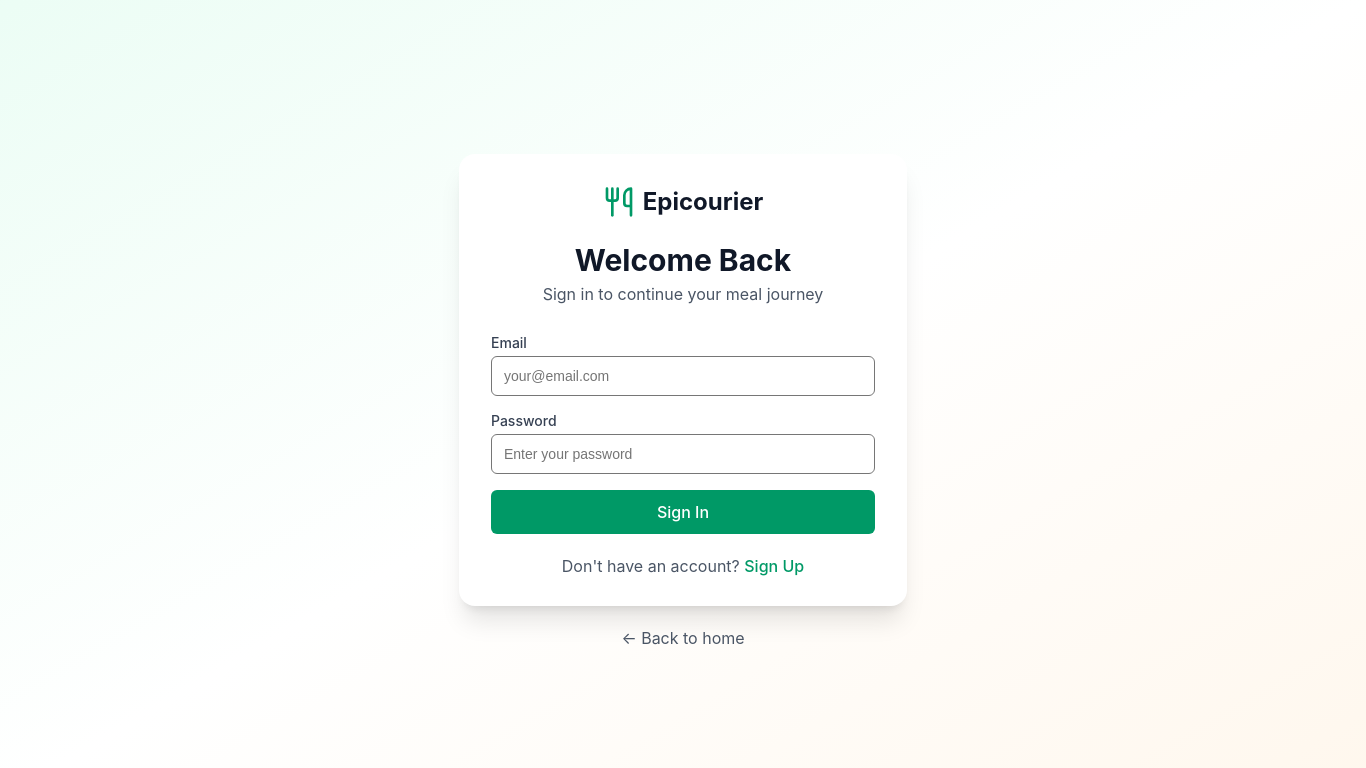
Scenario: SignIn Page › shows failure toast when login returns error
The width and height of the screenshot is (1366, 768).
Type "user@example.com" into the field labelled "Email".
click(683, 376); type("user@example.com")  # box x1=491 y1=356 x2=875 y2=396
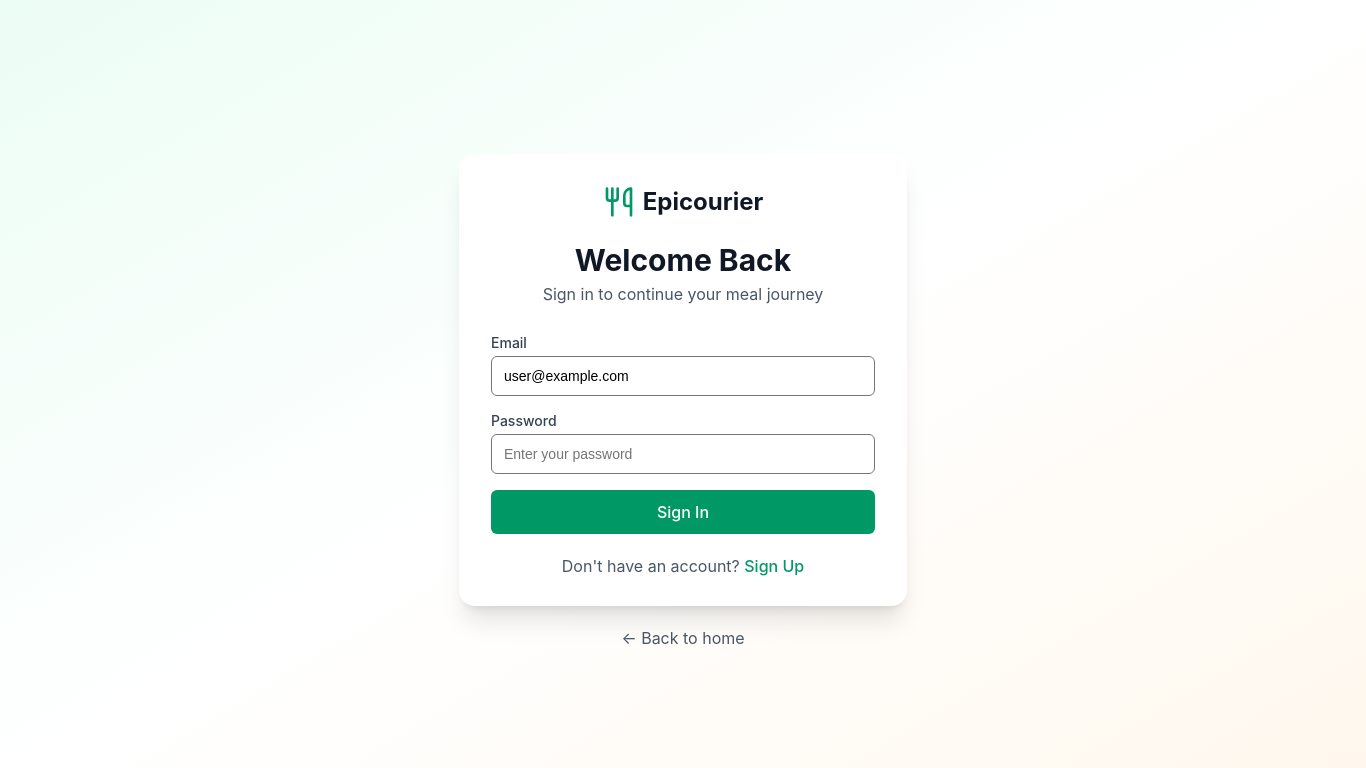
Type "wrong" into the password field labelled "Password".
click(683, 454); type("wrong")  # box x1=491 y1=434 x2=875 y2=474
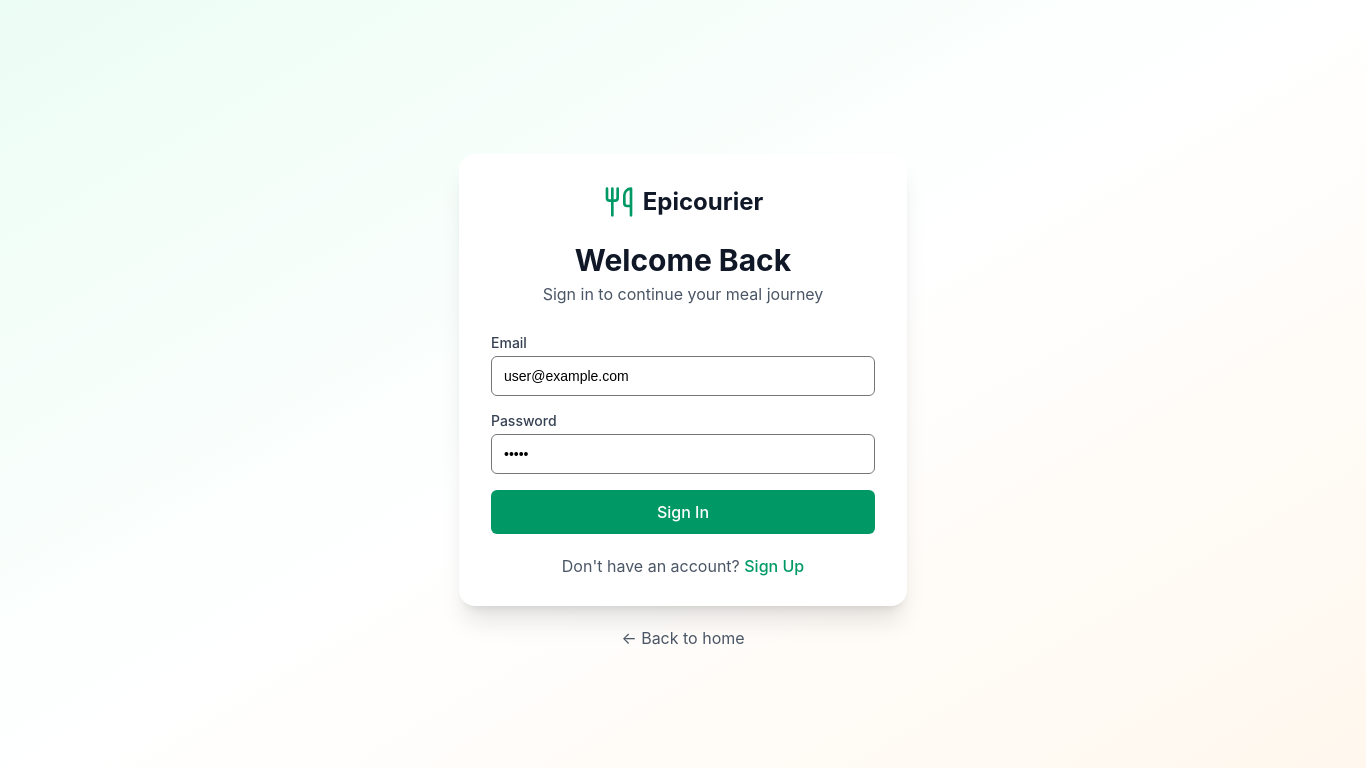
Click the button "Sign In".
click(683, 512)  # box x1=491 y1=490 x2=875 y2=534
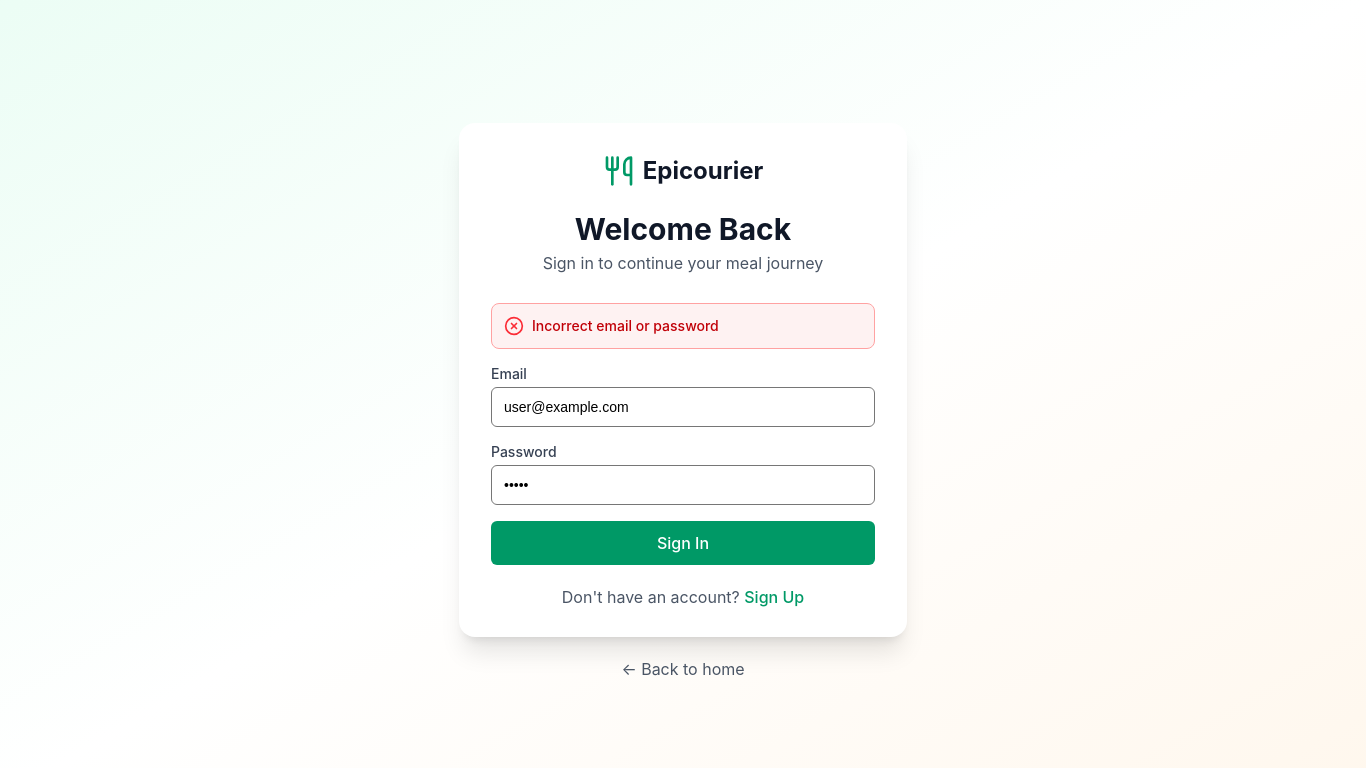
Result: the text "Incorrect email or password" is shown at x1=532 y1=316 x2=719 y2=336
